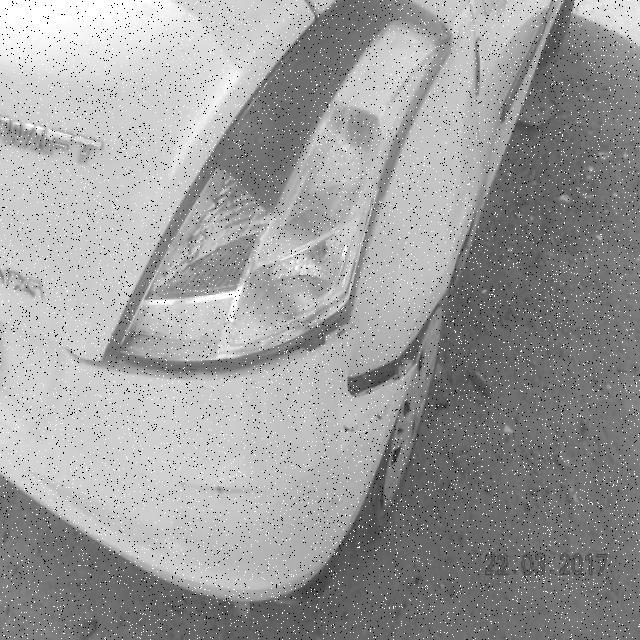car damage: (348, 310, 438, 402)
